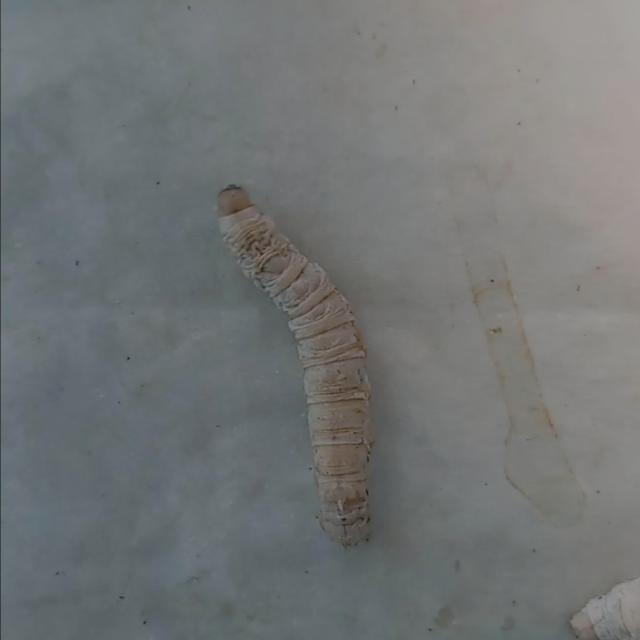Grasserie: (172, 160, 426, 564)
